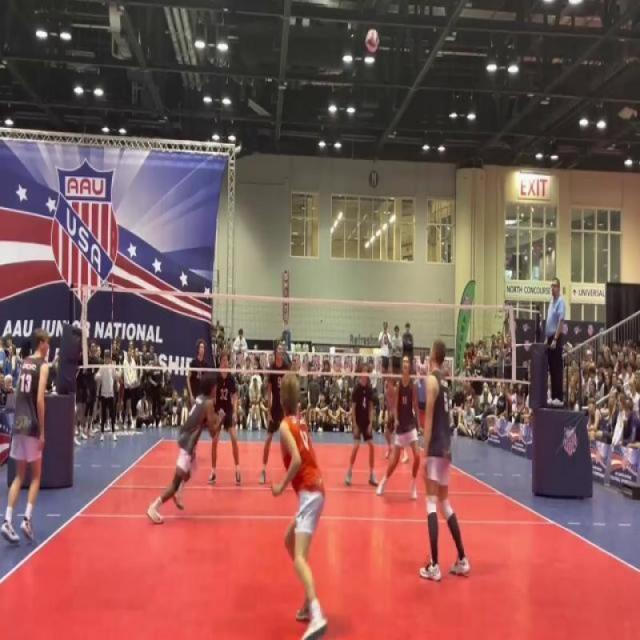volleyball: (365, 26, 380, 54)
